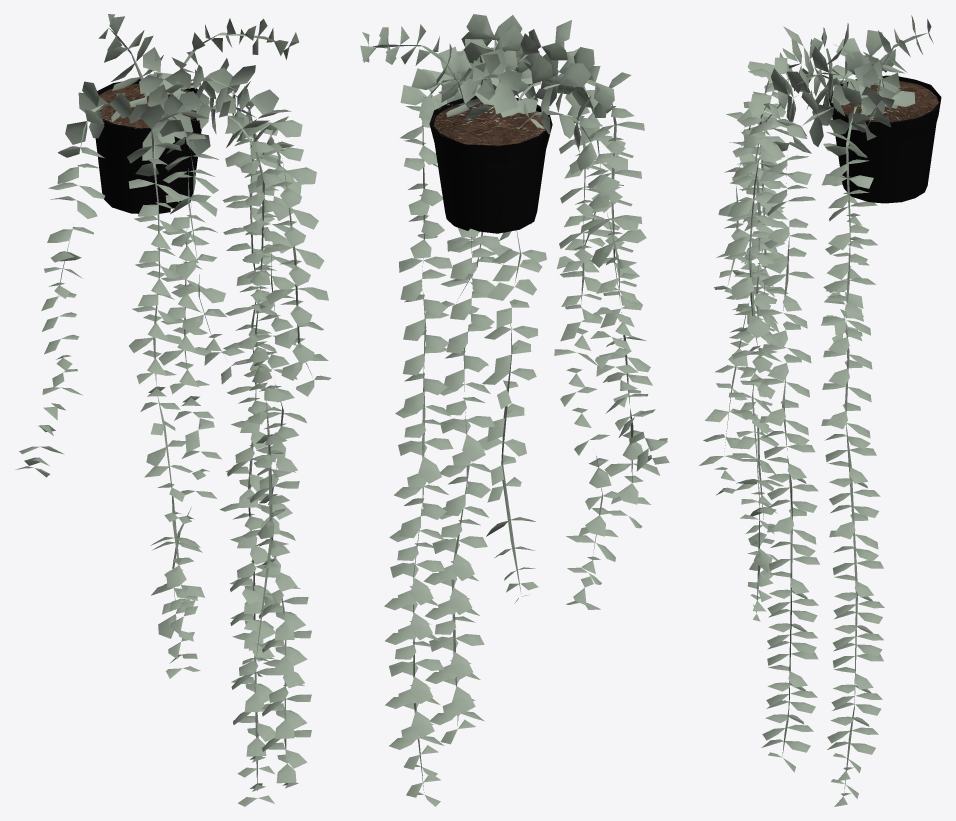
The model's file is fejka_sztuczna_roslina_doniczkowa_00615249.glb.
The picture shows the model from 3 angles, left to right: view 1: azimuth 30°, elevation 25°; view 2: azimuth 150°, elevation 25°; view 3: azimuth 270°, elevation 25°; orthographic projection. The views are drawn at different scales.
Visible parts, largest first — view 1: fejka_sztuczna_roslina_doniczkowa_00615249; view 2: fejka_sztuczna_roslina_doniczkowa_00615249; view 3: fejka_sztuczna_roslina_doniczkowa_00615249.
Part boxes in pixels (x1,y1,x2,y2): fejka_sztuczna_roslina_doniczkowa_00615249: [15, 14, 331, 806]; fejka_sztuczna_roslina_doniczkowa_00615249: [360, 14, 669, 806]; fejka_sztuczna_roslina_doniczkowa_00615249: [699, 15, 941, 806].
Size of the model in its own units: 0.2507 by 0.6446 by 0.1924.
1 material, 1 textured.
